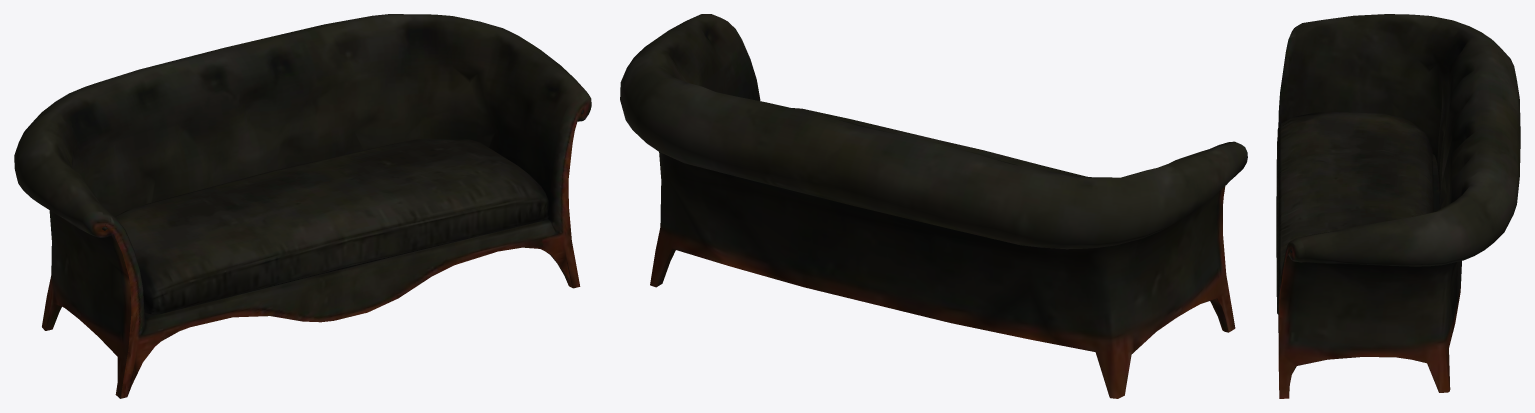
File: sofa_02.glb
3 views of the same model, side by side, from view 1: azimuth 30°, elevation 25°; view 2: azimuth 150°, elevation 25°; view 3: azimuth 270°, elevation 25° (orthographic). The views are drawn at different scales.
Parts seen in each view (by area): view 1: sofa_02_Base; view 2: sofa_02_Base; view 3: sofa_02_Base.
Boxes of the visible parts, x1,y1,x2,y2 form: sofa_02_Base: [14, 14, 591, 398]; sofa_02_Base: [620, 14, 1247, 398]; sofa_02_Base: [1276, 14, 1520, 398].
Bounding box in the file's own units: 1.81 × 0.7095 × 0.8178.
Materials: 1 (1 with a texture image).
